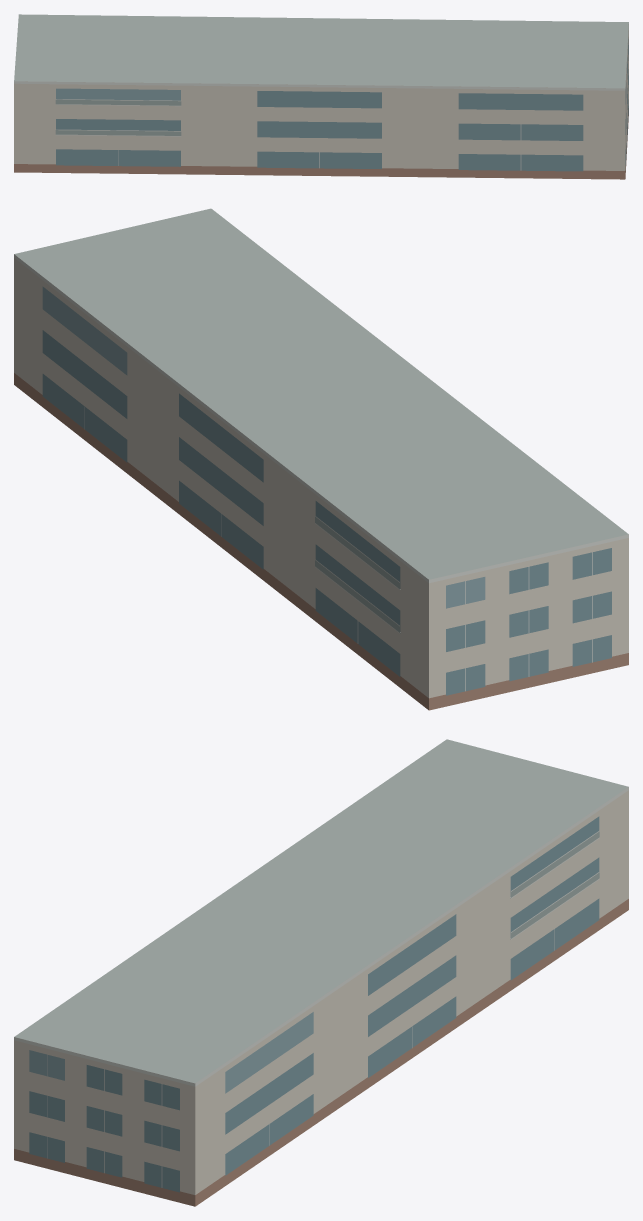
The model's file is survey-upis-32886333.glb.
3 views of the same model, one above another, from view 1: azimuth 30°, elevation 25°; view 2: azimuth 150°, elevation 25°; view 3: azimuth 270°, elevation 25° (orthographic). The views are drawn at different scales.
Parts seen in each view (by area): view 1: survey-upis-32886333.tmp; view 2: survey-upis-32886333.tmp; view 3: survey-upis-32886333.tmp.
Part boxes in pixels (<box>): survey-upis-32886333.tmp: <box>14,14,628,179</box>; survey-upis-32886333.tmp: <box>14,208,628,710</box>; survey-upis-32886333.tmp: <box>14,739,628,1206</box>.
Size of the model in its own units: 54.83 by 9.15 by 41.39.
